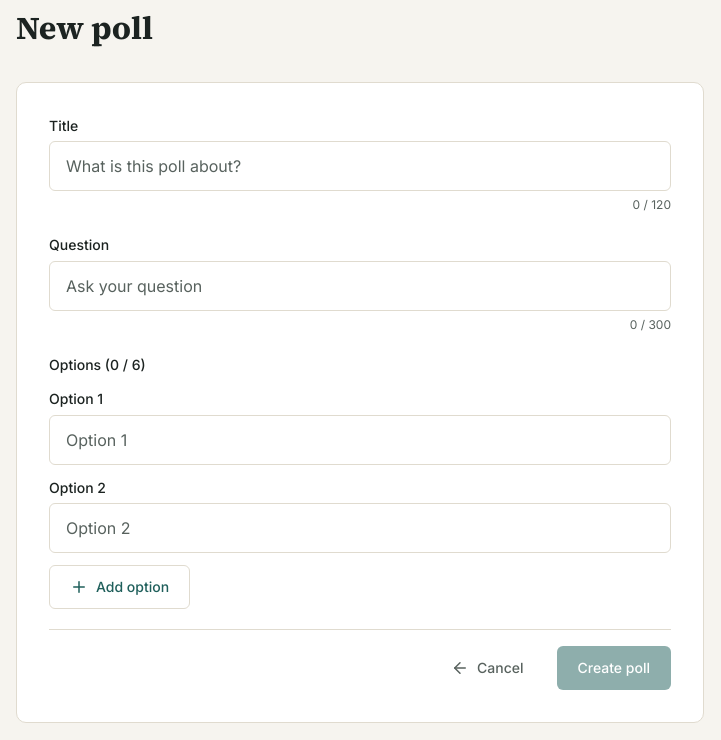
CreatePollPage › enables submit button when all fields are valid
Type "Valid Title" into the field labelled "Title" at coordinates (360, 166), box [49,141,671,191]
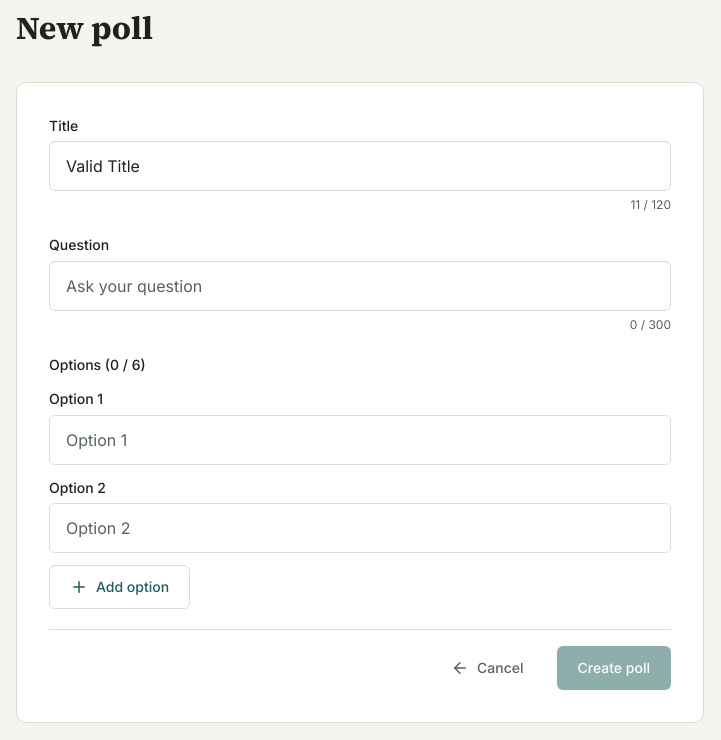
Type "What is your favorite cloud provider?" into the field labelled "Question" at coordinates (360, 286), box [49,261,671,311]
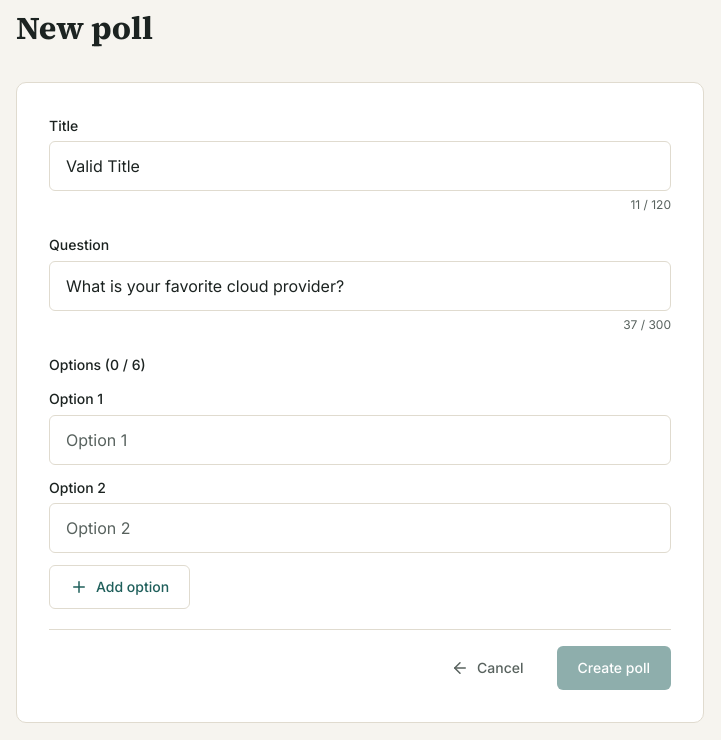
Type "AWS" into the field with placeholder "Option 1" at coordinates (360, 440), box [49,414,671,464]
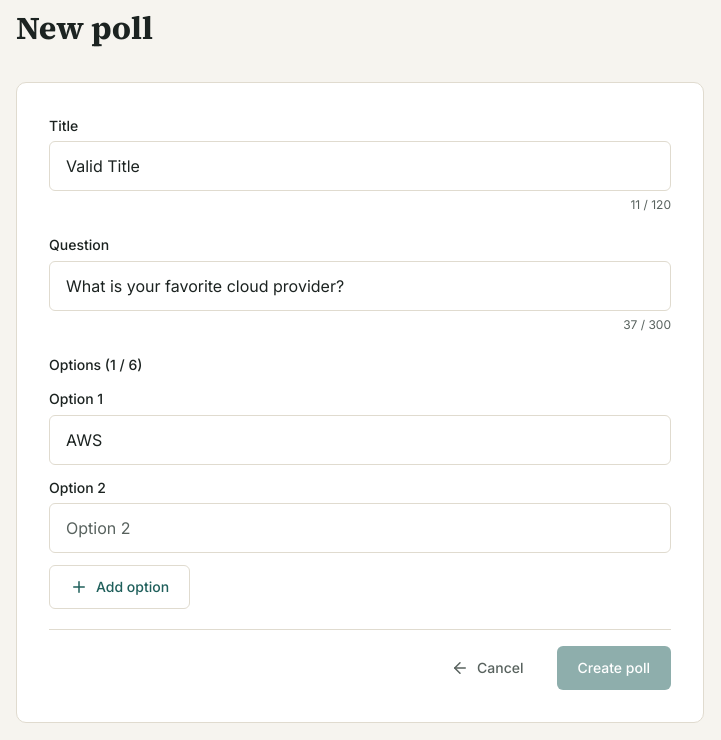
Type "GCP" into the field with placeholder "Option 2" at coordinates (360, 528), box [49,503,671,553]
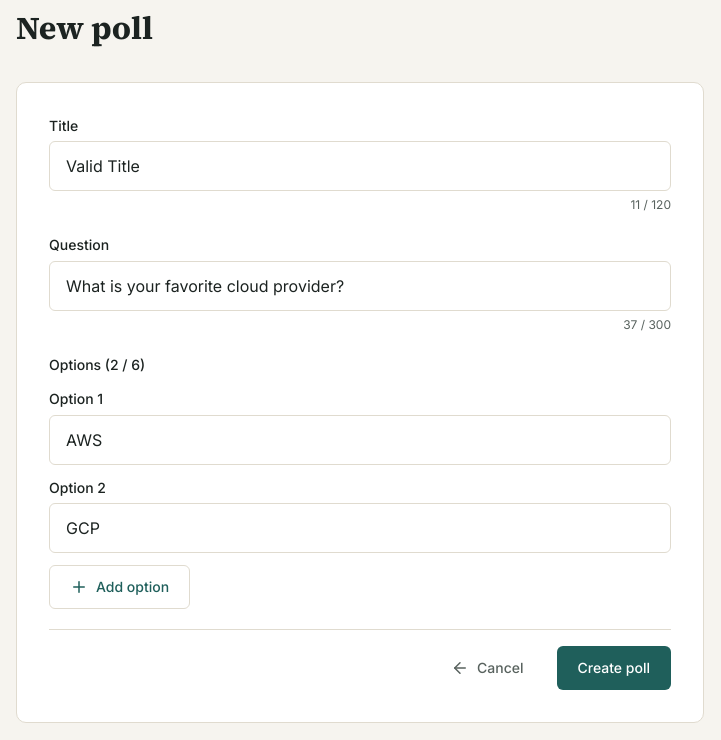
Expected: the button "Create poll" is enabled, [556,646,671,690]
